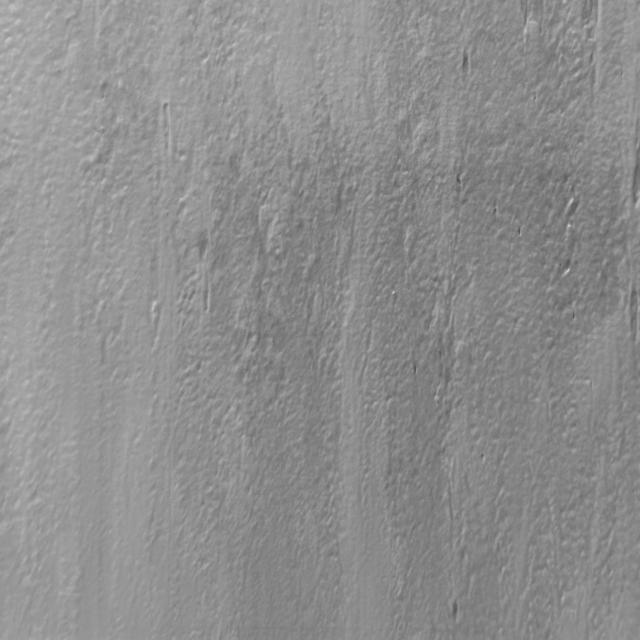pin holes: (451, 597, 464, 626), (459, 52, 469, 86), (455, 173, 467, 189), (517, 223, 525, 239), (492, 207, 499, 222)
